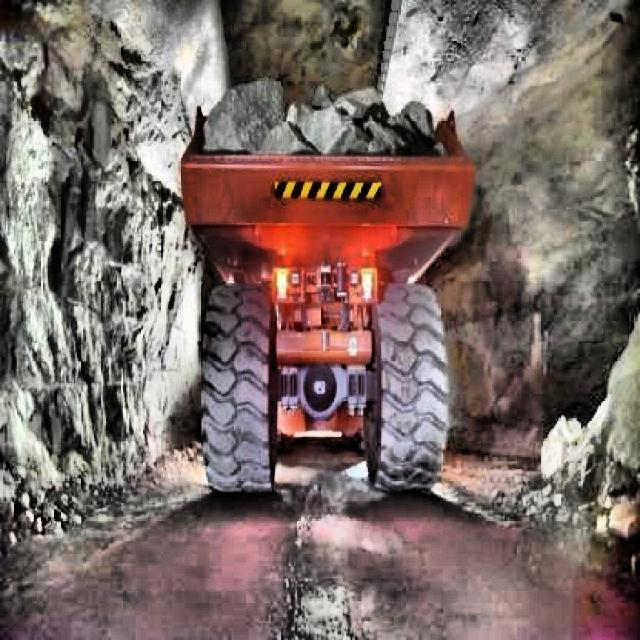dump_truck: (155, 40, 480, 514)
